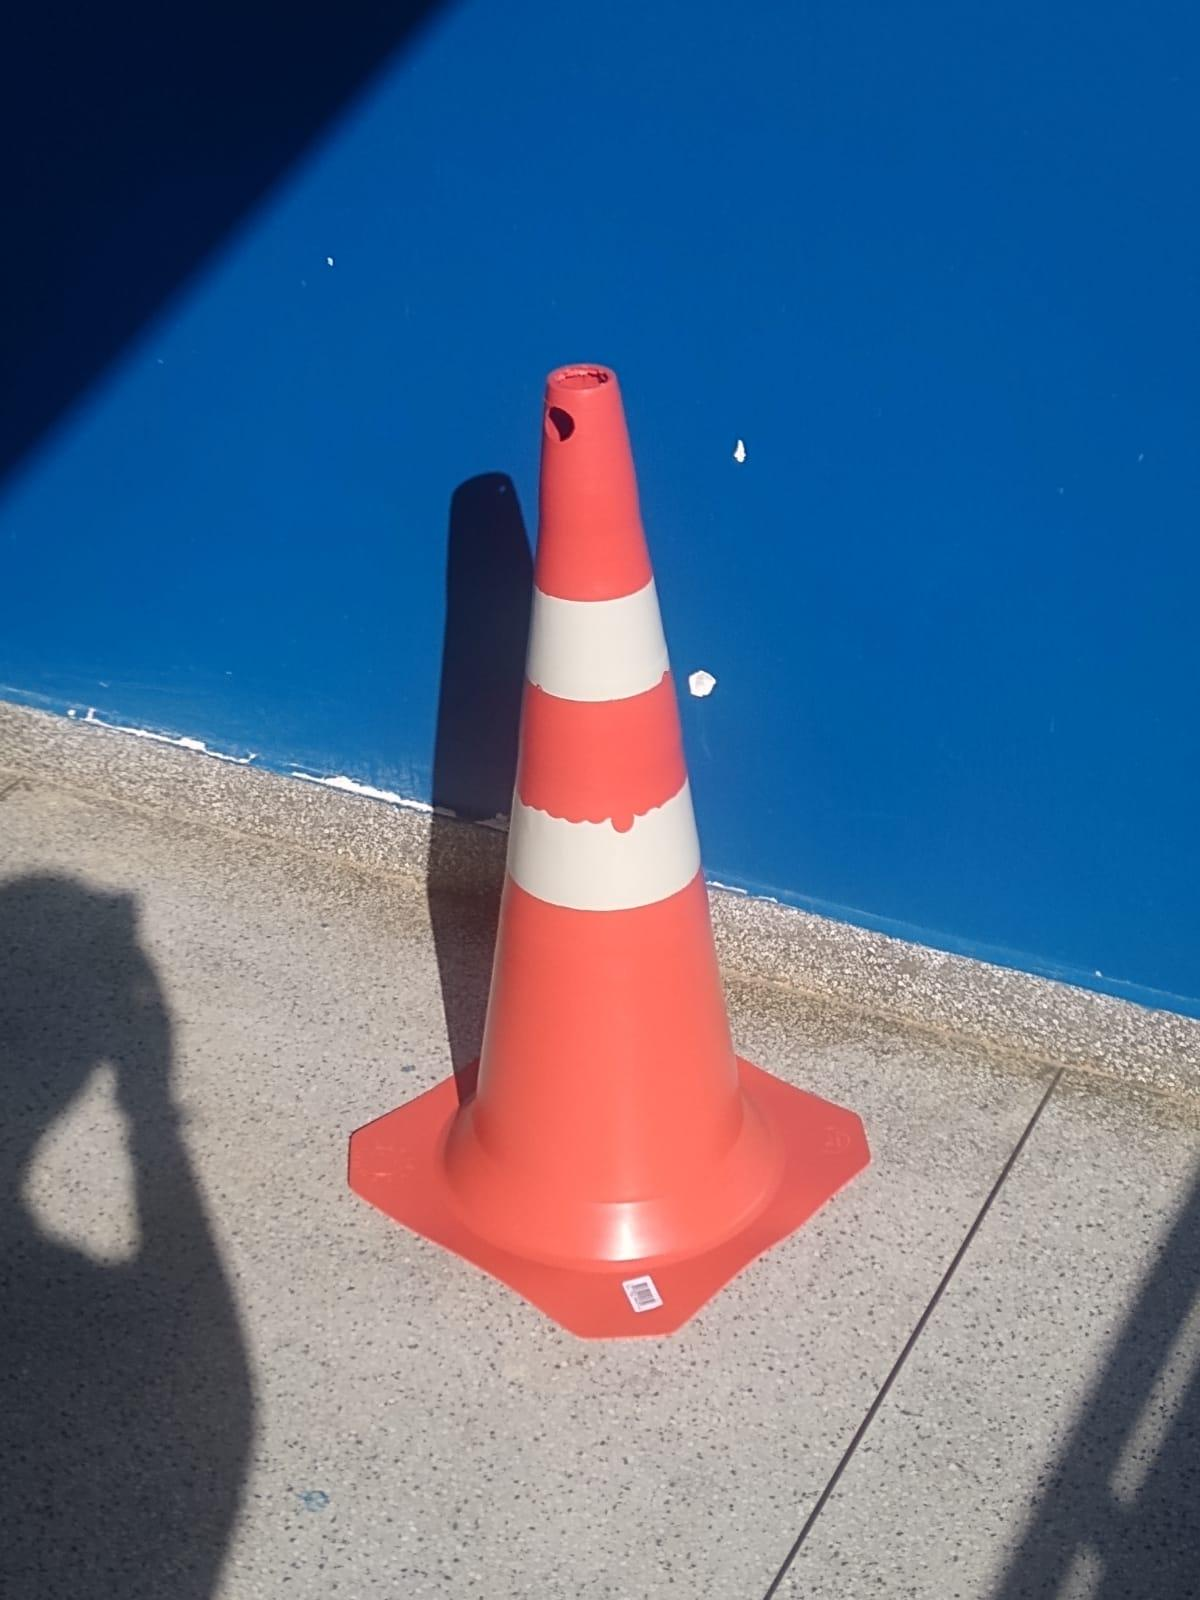traffic cone: (347, 359, 871, 1342)
